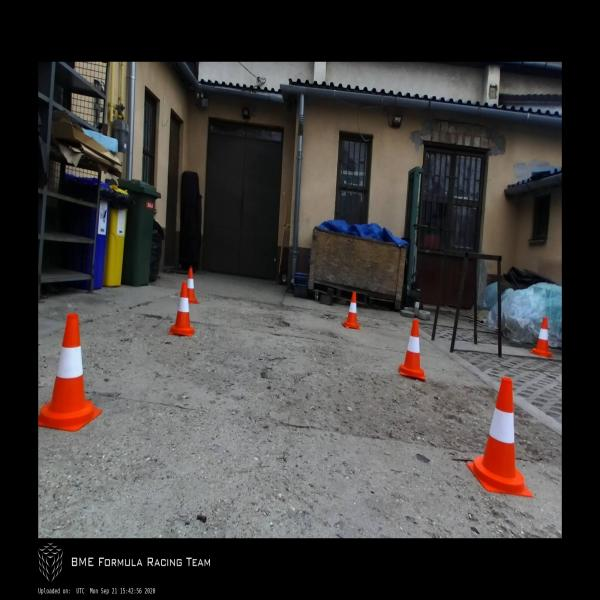orange_cone: (466, 377, 534, 498), (38, 313, 102, 432), (398, 319, 426, 381), (168, 282, 195, 336), (529, 318, 553, 358), (342, 291, 360, 330), (188, 268, 200, 304)
